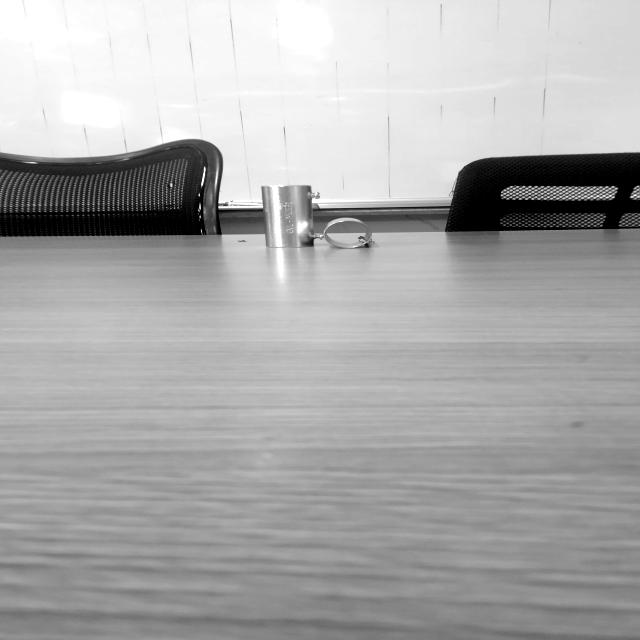Co_Lon: (261, 184, 314, 248)
Co_Nho: (322, 217, 373, 249)
